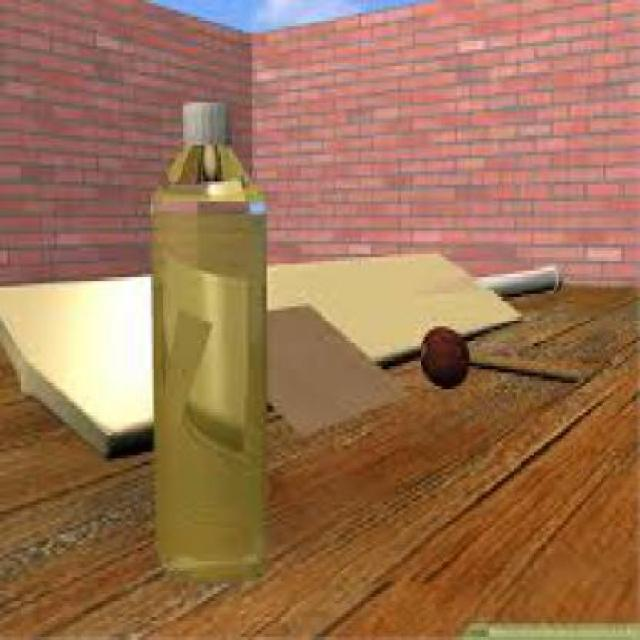ball: (383, 309, 493, 403)
